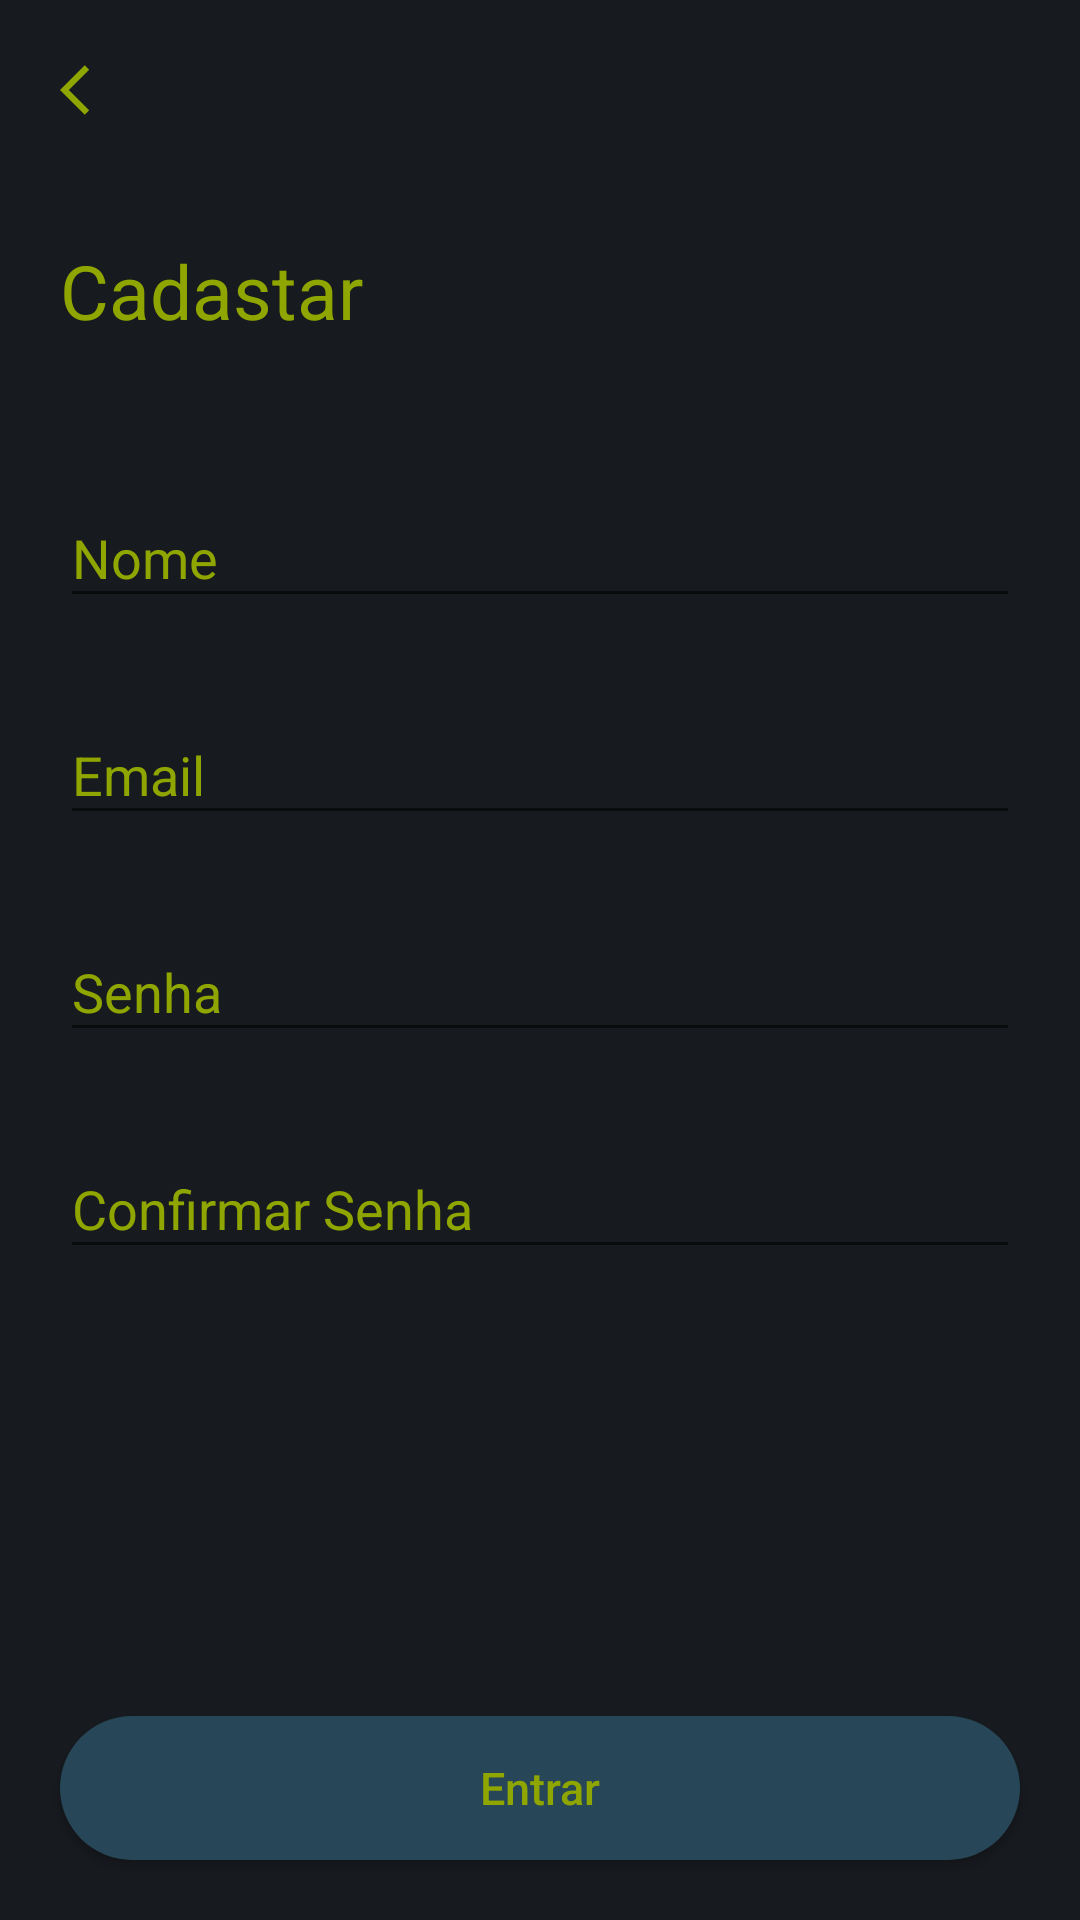

Named icons in this screenshot (1080w x 1920h) and their centers, (x,y):
arrow back: (74,90)
